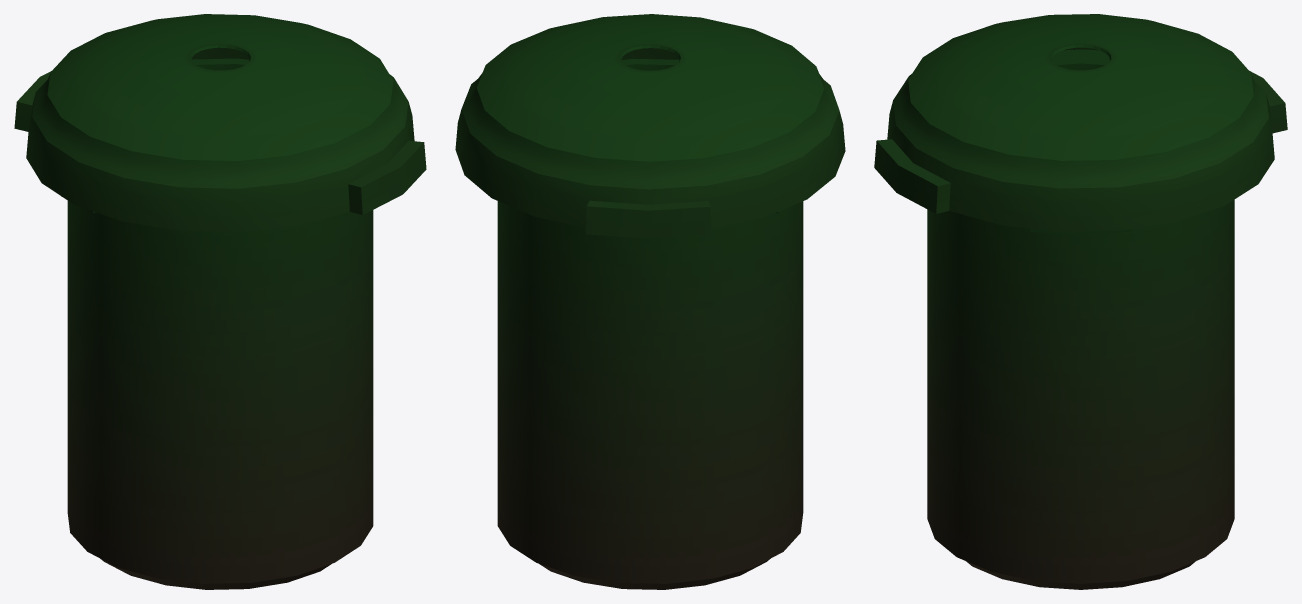
File: trashcanorganic.glb
The picture shows the model from 3 angles, left to right: view 1: azimuth 30°, elevation 25°; view 2: azimuth 150°, elevation 25°; view 3: azimuth 270°, elevation 25°; orthographic projection.
Visible parts, largest first — view 1: polySurface1, pSphere1; view 2: polySurface1, pSphere1; view 3: polySurface1, pSphere1.
Part boxes in pixels (box(x1,y1,x2,y2)): polySurface1: box(61, 58, 373, 589); pSphere1: box(14, 14, 426, 232); polySurface1: box(497, 58, 803, 589); pSphere1: box(455, 14, 845, 238); polySurface1: box(927, 49, 1234, 589); pSphere1: box(874, 14, 1287, 231).
Size of the model in its own units: 0.2987 by 0.4044 by 0.3186.
Materials: 1 (1 with a texture image).
